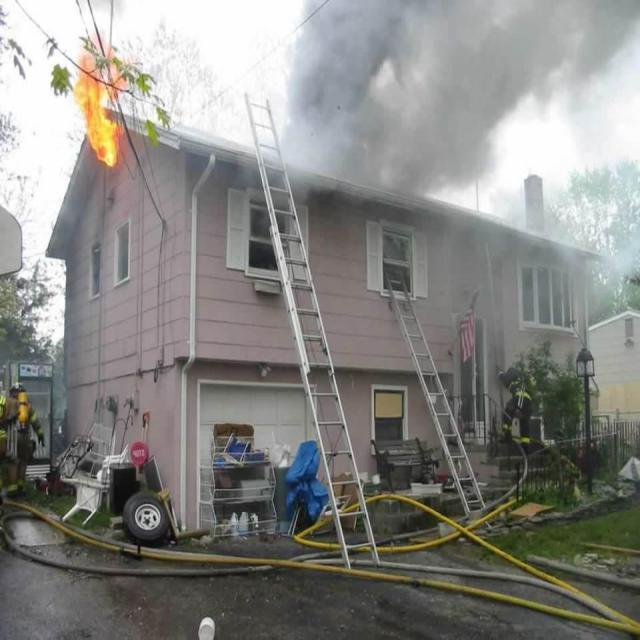Fire: (69, 58, 126, 172)
